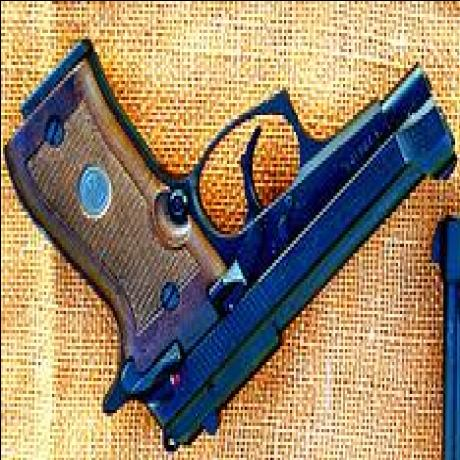weapon: (4, 42, 452, 450)
